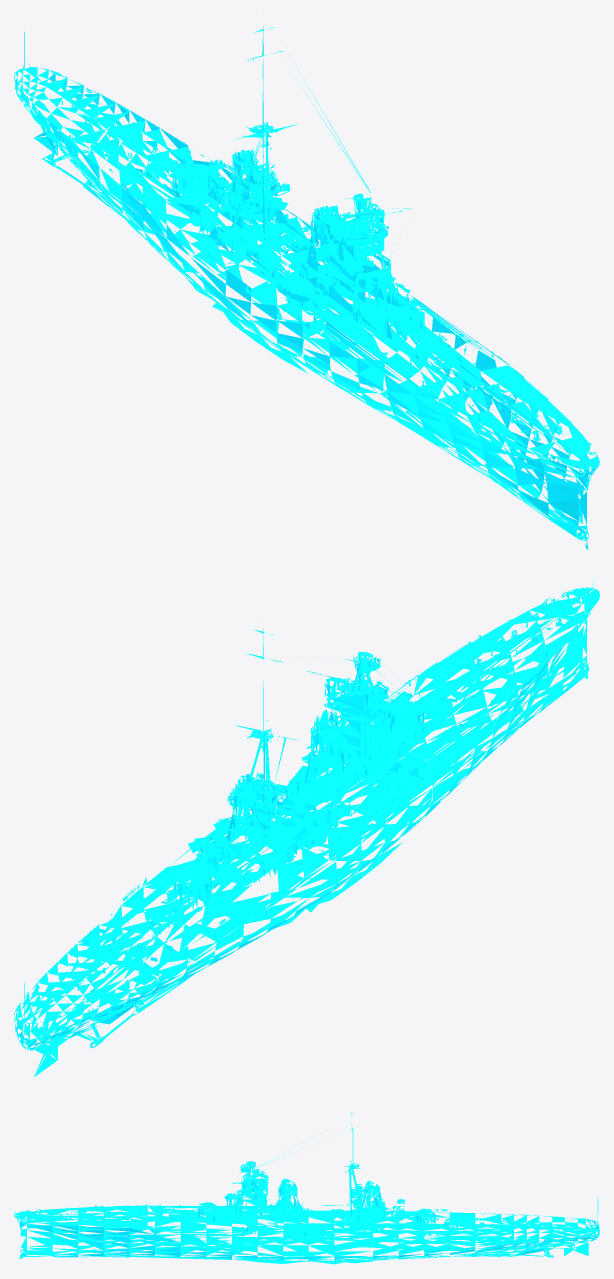
The model's file is Azur_Gorizia.glb.
The picture shows the model from 3 angles, top to bottom: view 1: azimuth 30°, elevation 25°; view 2: azimuth 150°, elevation 25°; view 3: azimuth 270°, elevation 25°; orthographic projection. The views are drawn at different scales.
Size of the model in its own units: 1.52 by 3.52 by 12.2.
